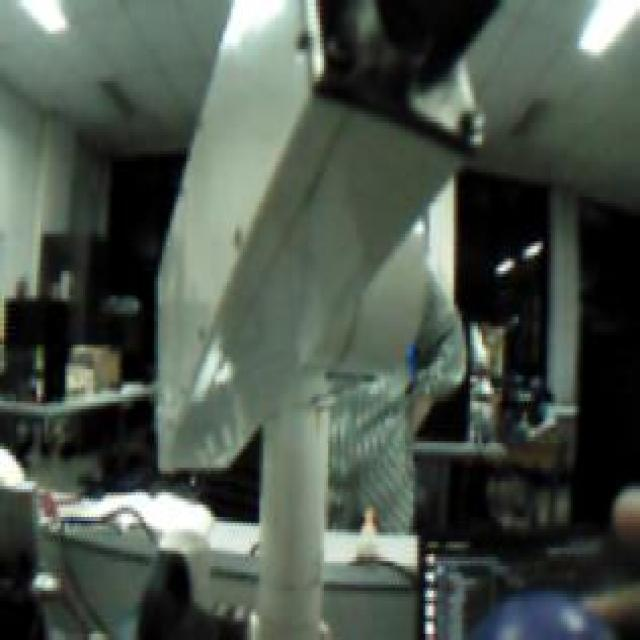BallPurple: (467, 590, 612, 640)
